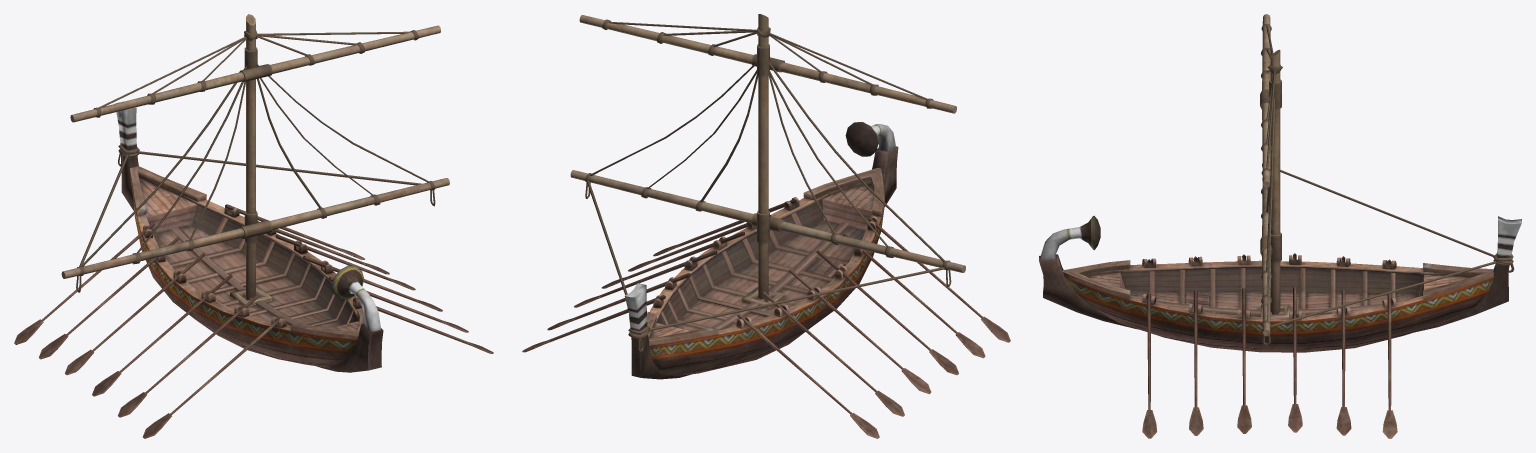
The model's file is 222-kebenit.glb.
The picture shows the model from 3 angles, left to right: view 1: azimuth 30°, elevation 25°; view 2: azimuth 150°, elevation 25°; view 3: azimuth 270°, elevation 25°; orthographic projection. The views are drawn at different scales.
Bounding box in the file's own units: 6.19 × 5.09 × 7.2.
1 material, 1 textured.
